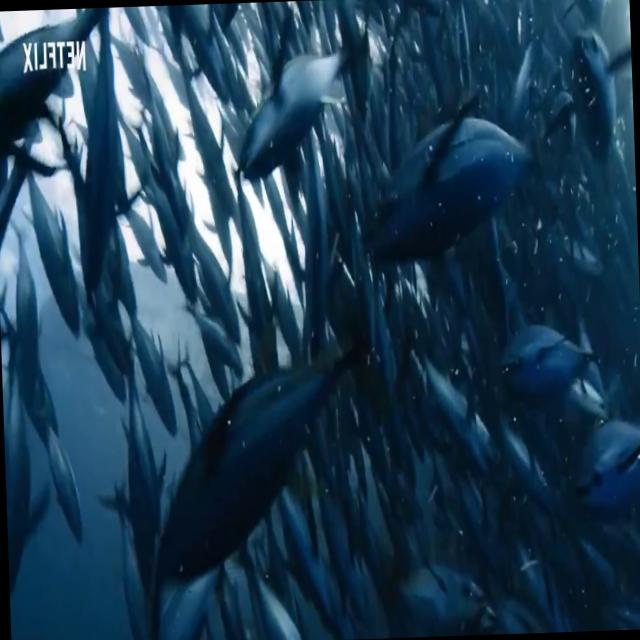fish: (146, 292, 404, 590)
